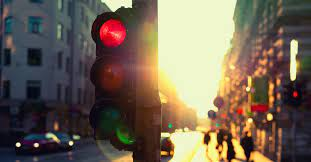red: (89, 8, 138, 141)
